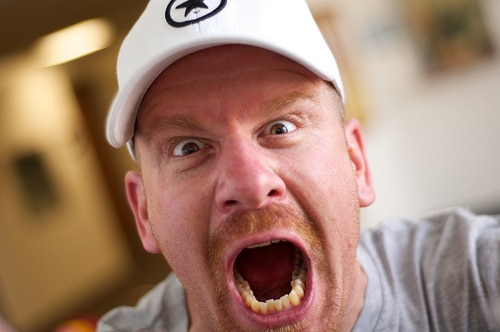angry: (132, 99, 357, 332)
